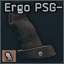HK Ergo PSG-1 style pistol grip: (0, 0, 64, 64)
